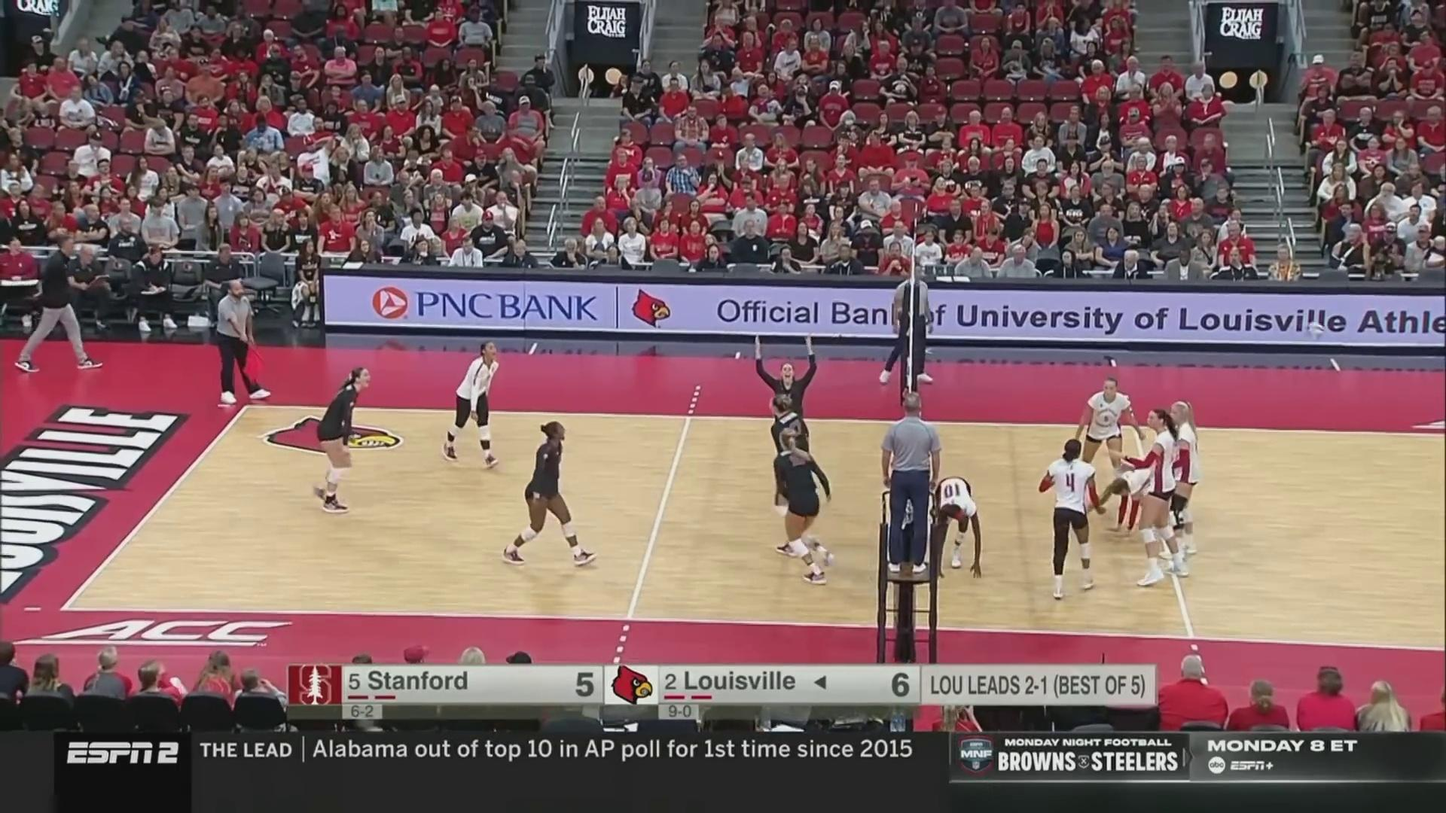player: (1111, 409, 1189, 584), (504, 421, 598, 564), (1040, 439, 1106, 599), (753, 336, 821, 487), (1072, 377, 1143, 510), (775, 429, 834, 580), (315, 368, 371, 515), (768, 395, 816, 554), (443, 343, 497, 468), (925, 474, 981, 578), (1164, 403, 1198, 560), (1111, 468, 1189, 532)
refree: (882, 394, 941, 572), (215, 276, 273, 406), (880, 263, 934, 385)
